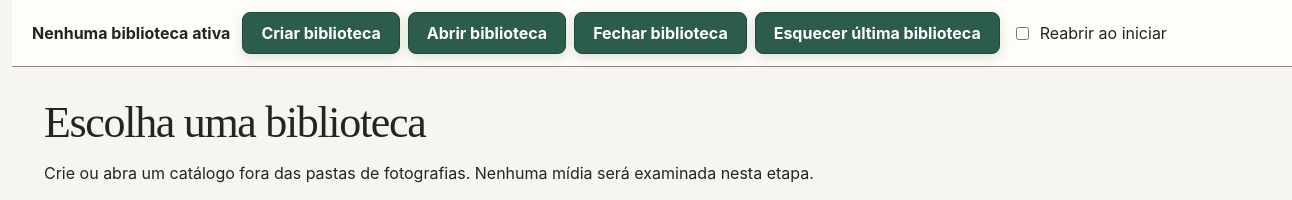
starts without a library and never renders catalog children until a selection is active
Expected: the text "Catalog content" is not shown
Click the button "Criar biblioteca": (321, 33) [242,12,400,54]
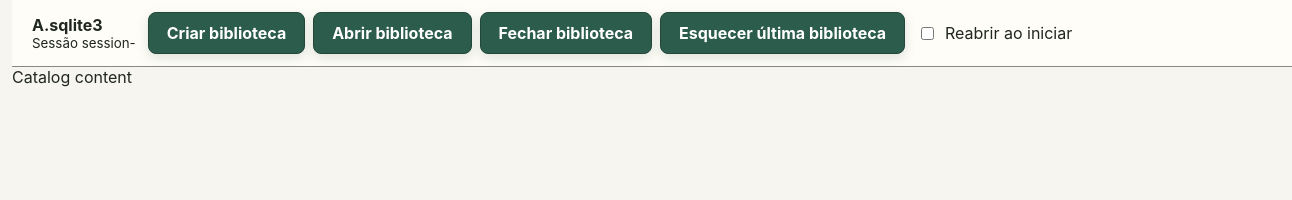
Now the text "Catalog content" is shown, box [12,67,132,87]
Now the text "A.sqlite3" is shown, box [32,15,103,35]
